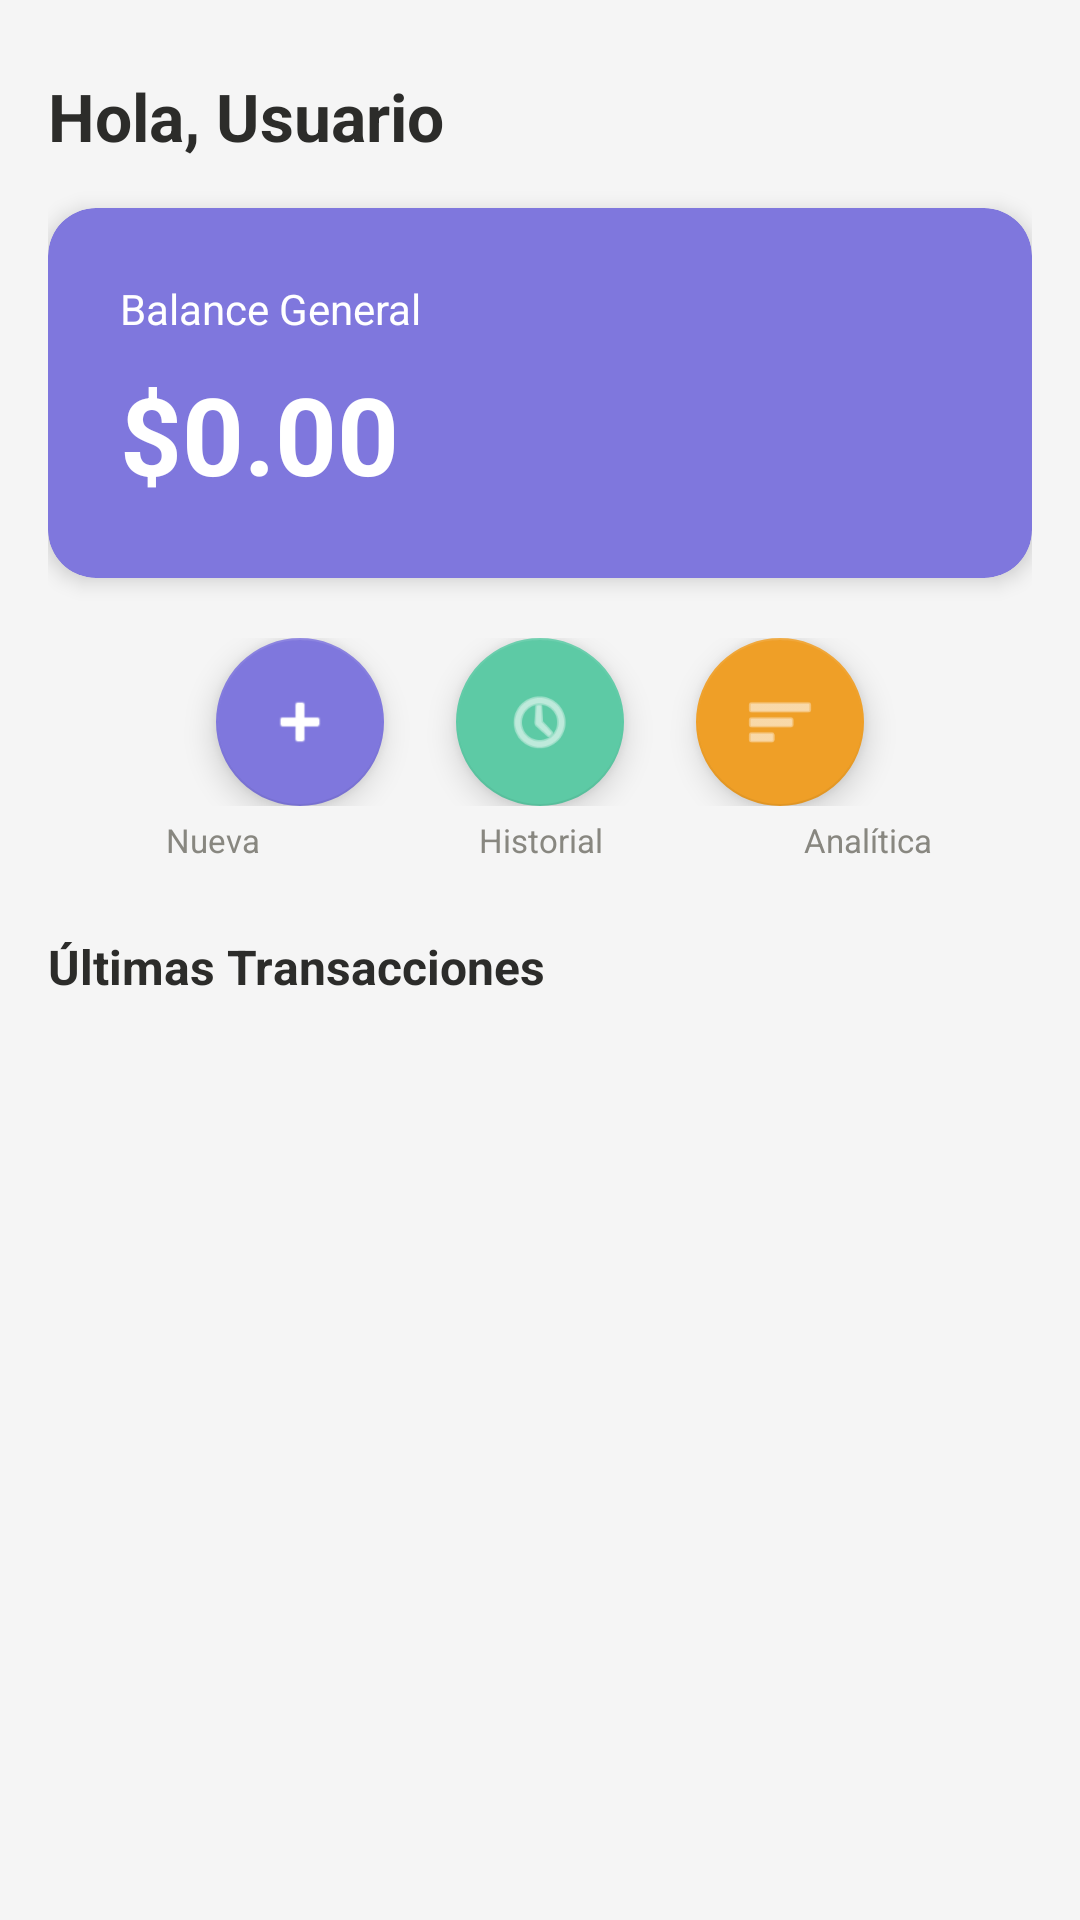

Icons on this 1080w x 1920h Android screen, each with its box as (x1,y1,x2,y2):
add: (216,638,384,806)
sort by size: (696,638,864,806)
